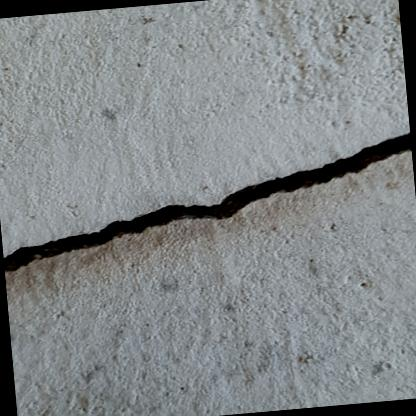crack: (3, 127, 412, 275)
